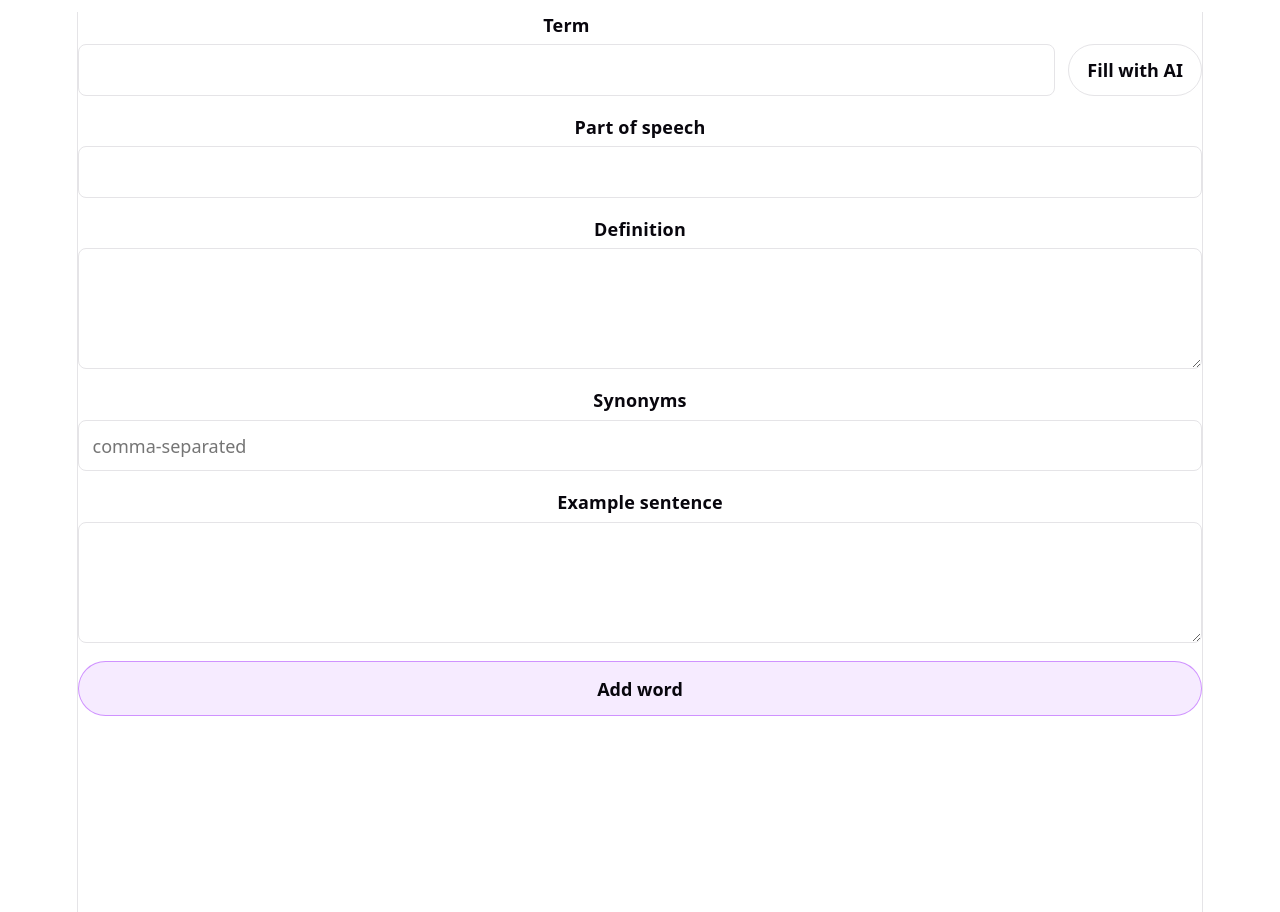
Test case: WordForm › shows inline validation errors for required fields
Click the button "Add word" at coordinates (640, 689), box [78, 661, 1202, 716]
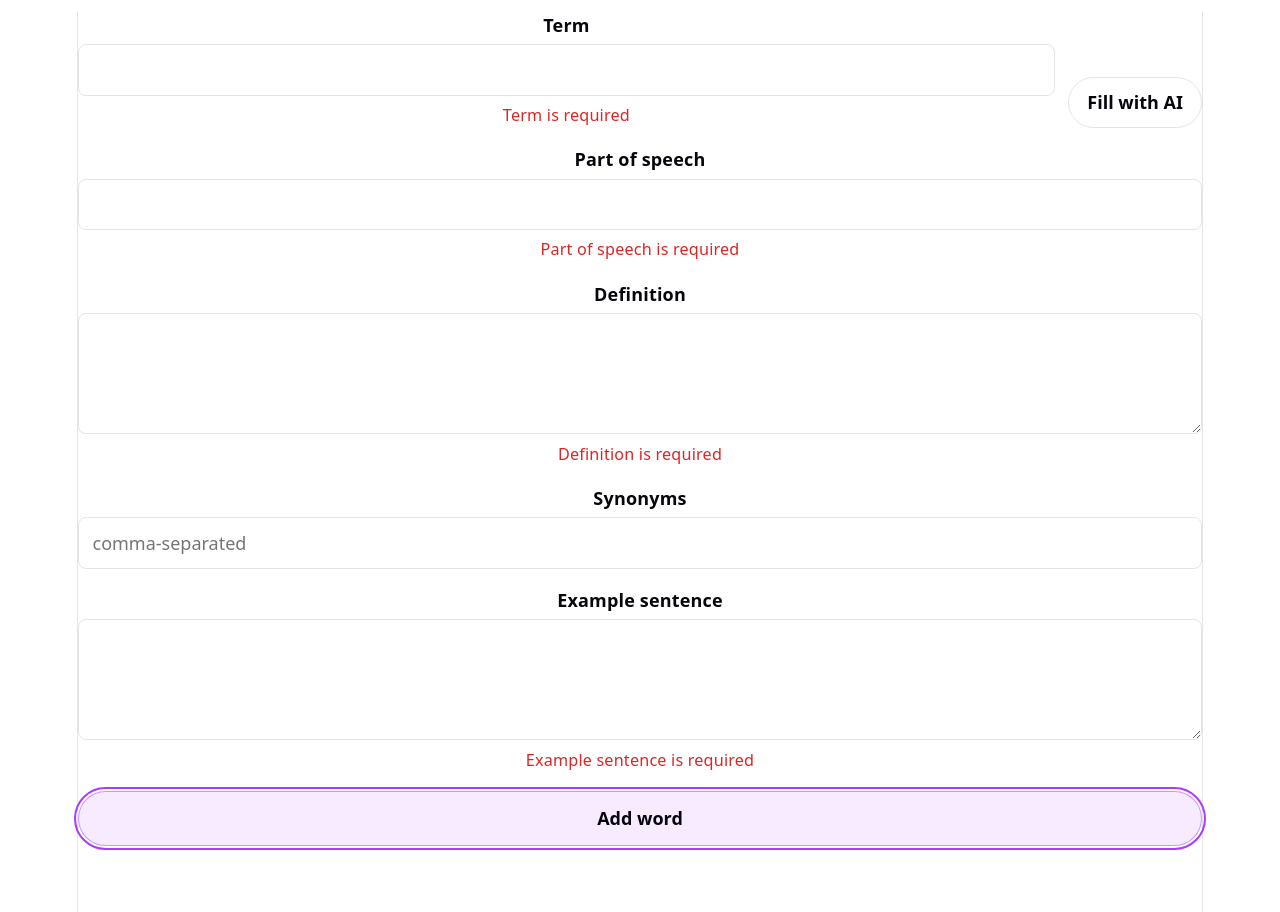
Expected: the text "Term is required" is shown, [503, 104, 630, 126]
Expected: the text "Part of speech is required" is shown, [540, 238, 740, 260]
Expected: the text "Definition is required" is shown, [558, 443, 722, 465]
